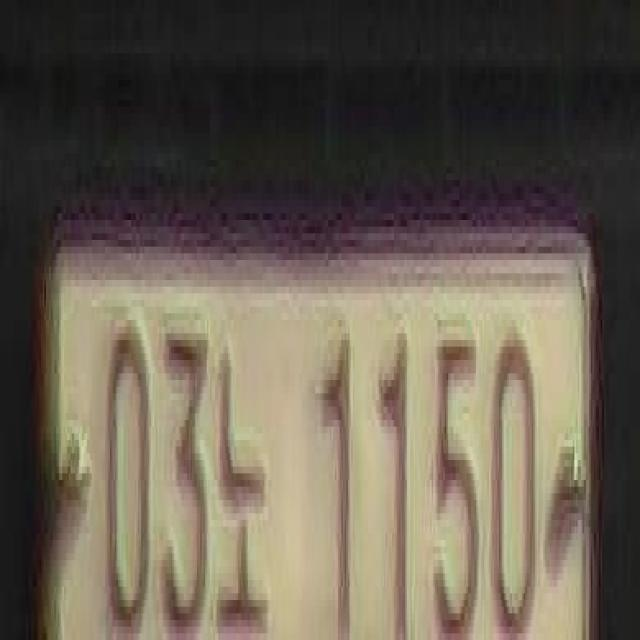illegal_plate: (51, 245, 602, 635)
